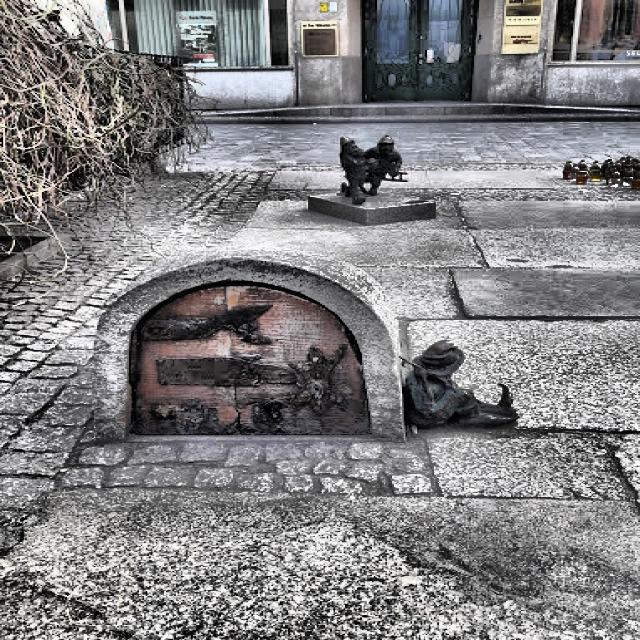Spioch: (404, 341, 517, 427)
